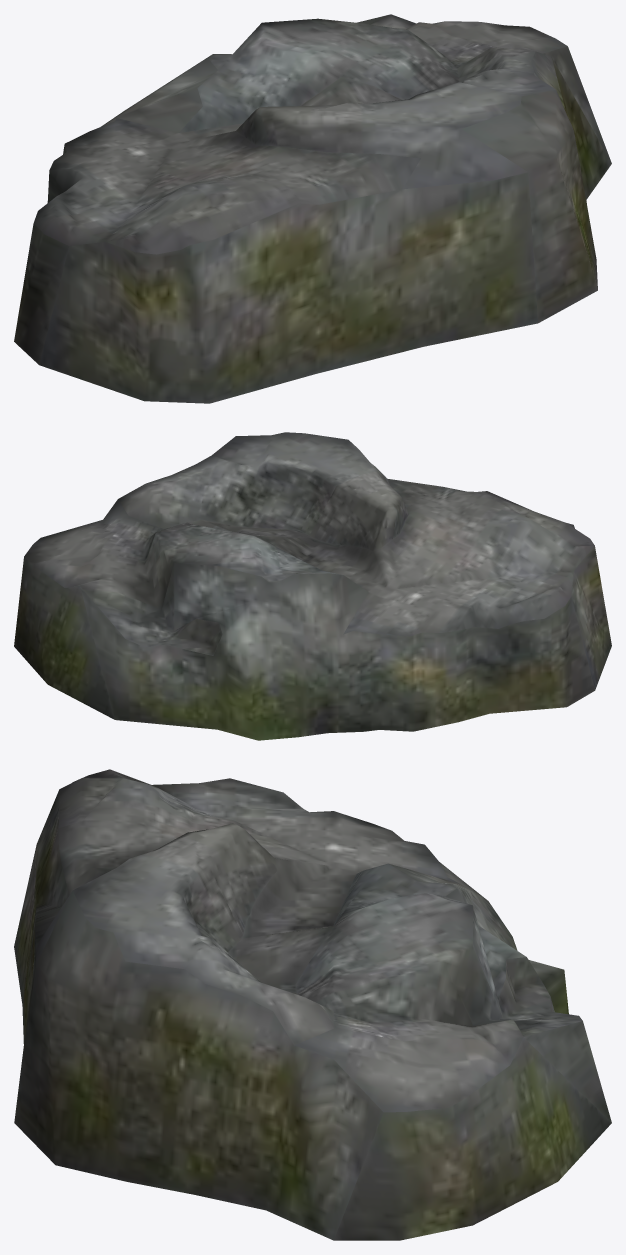
File: forestrock_cluster02.glb
3 views of the same model, one above another, from view 1: azimuth 30°, elevation 25°; view 2: azimuth 150°, elevation 25°; view 3: azimuth 270°, elevation 25° (orthographic). The views are drawn at different scales.
Parts seen in each view (by area): view 1: 0_forestrock_cluster02; view 2: 0_forestrock_cluster02; view 3: 0_forestrock_cluster02.
Part boxes in pixels (left/top/right/bottom): 0_forestrock_cluster02: left=14, top=14, right=611, bottom=403; 0_forestrock_cluster02: left=14, top=432, right=611, bottom=740; 0_forestrock_cluster02: left=14, top=769, right=611, bottom=1240.
Size of the model in its own units: 7.38 by 2.07 by 5.46.
Materials: 1 (1 with a texture image).
